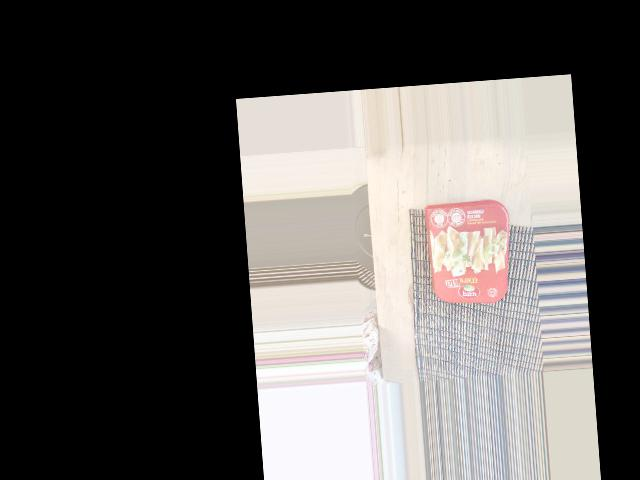cheese: (427, 191, 511, 311)
